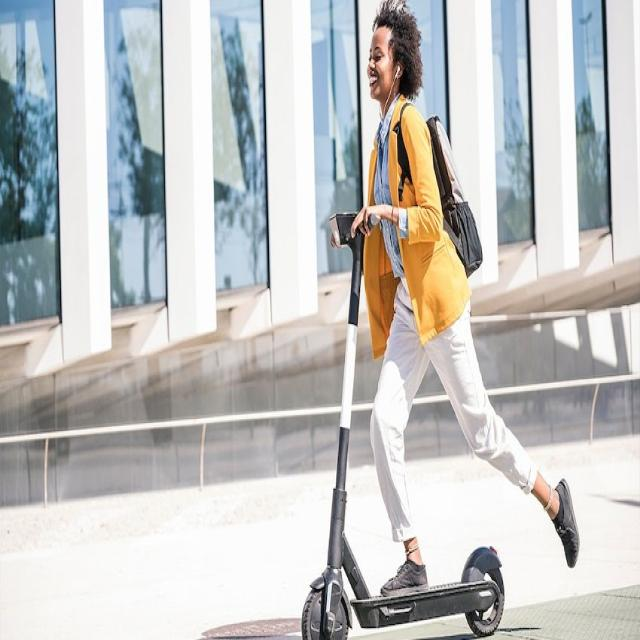non-helmet: (299, 3, 583, 640)
